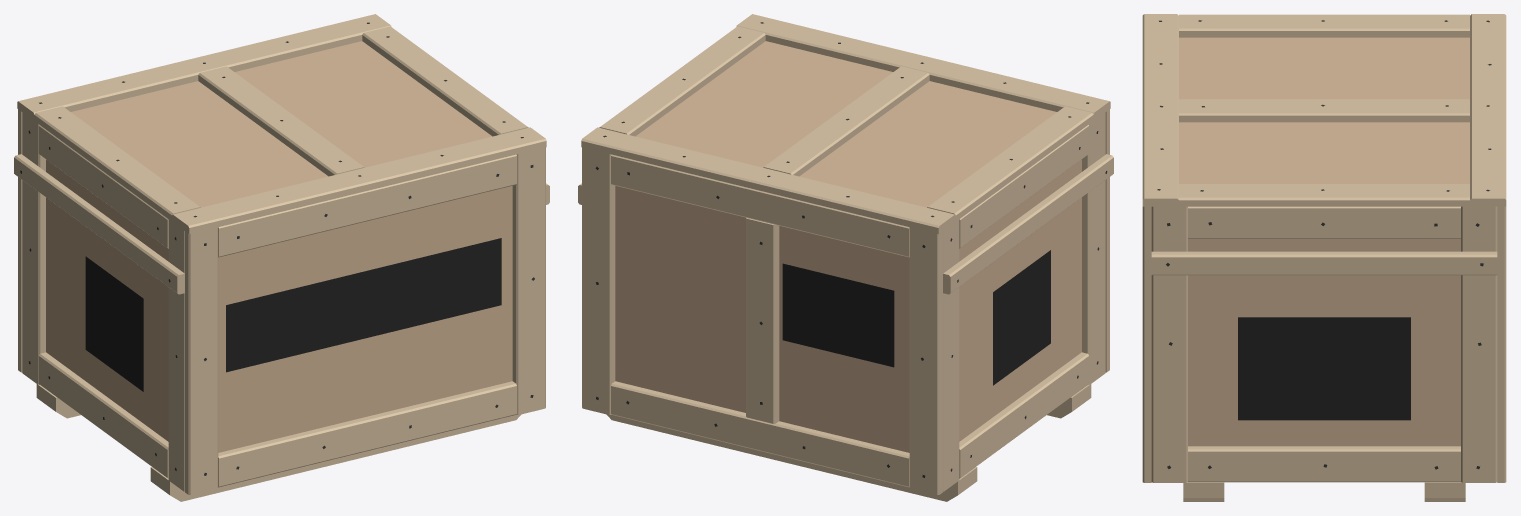
Rendered from Kit_Crate.fbx.
3 views of the same model, side by side, from view 1: azimuth 30°, elevation 25°; view 2: azimuth 150°, elevation 25°; view 3: azimuth 270°, elevation 25° (orthographic). The views are drawn at different scales.
Parts seen in each view (by area): view 1: Kit_Crate_LOD0; view 2: Kit_Crate_LOD0; view 3: Kit_Crate_LOD0.
Part boxes in pixels (x1,y1,x2,y2): Kit_Crate_LOD0: [14, 14, 549, 501]; Kit_Crate_LOD0: [578, 14, 1113, 501]; Kit_Crate_LOD0: [1142, 14, 1506, 501].
Size of what is drawn, in the model's own units: 1 by 0.7504 by 0.8008.
